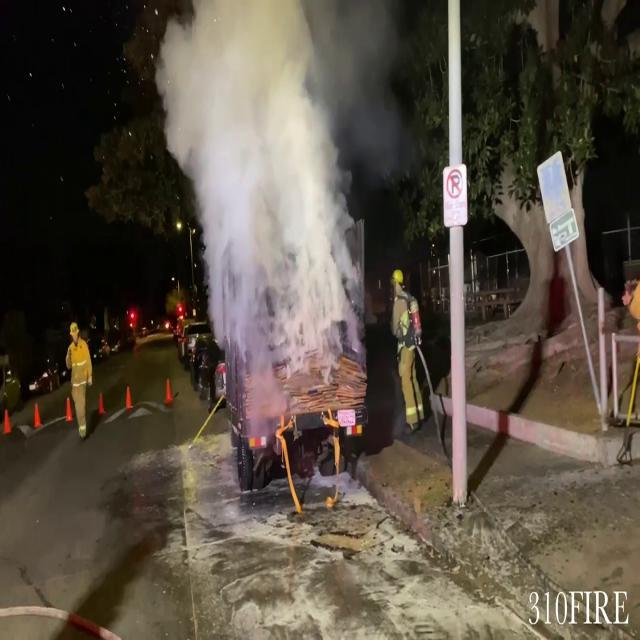Smoke: (165, 1, 393, 416)
